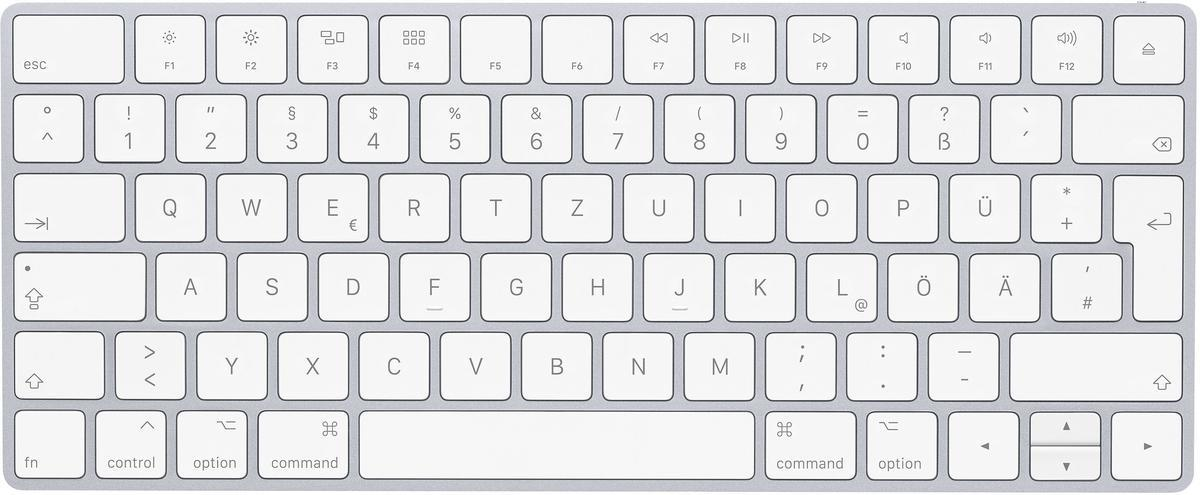0: (825, 90, 899, 164)
1: (93, 90, 165, 162)
2: (174, 92, 246, 164)
3: (256, 90, 328, 162)
4: (336, 90, 409, 163)
5: (417, 90, 491, 164)
6: (498, 90, 573, 164)
7: (581, 93, 656, 167)
8: (662, 93, 737, 167)
9: (745, 90, 820, 164)
a: (153, 248, 227, 321)
accent: (988, 90, 1062, 163)
ae: (967, 249, 1041, 322)
alt-left: (176, 407, 248, 480)
altgr-right: (860, 408, 941, 480)
b: (519, 327, 595, 401)
c: (356, 327, 432, 401)
caret: (11, 90, 84, 162)
comma: (763, 328, 838, 400)
d: (316, 249, 391, 322)
del: (1069, 90, 1184, 164)
e: (295, 169, 370, 242)
enter: (1110, 171, 1185, 323)
f: (396, 248, 472, 321)
g: (478, 248, 553, 322)
h: (558, 247, 635, 322)
hash: (1049, 250, 1123, 322)
i: (702, 169, 777, 242)
j: (641, 248, 715, 322)
k: (723, 249, 796, 323)
keyboard: (5, 6, 1193, 494)
l: (804, 251, 877, 325)
less: (112, 328, 186, 399)
m: (680, 328, 756, 400)
minus: (925, 329, 1001, 400)
n: (598, 328, 674, 402)
o: (784, 173, 859, 246)
oe: (885, 249, 960, 323)
p: (865, 170, 939, 243)
plus: (1028, 170, 1103, 242)
point: (844, 328, 919, 400)
q: (132, 170, 207, 242)
r: (378, 170, 453, 243)
s: (234, 249, 309, 322)
shift-left: (11, 326, 105, 399)
shift-lock: (10, 248, 148, 321)
shift-right: (1005, 328, 1184, 401)
space: (355, 407, 759, 480)
ss: (906, 90, 981, 164)
strg-left: (91, 409, 169, 478)
t: (458, 169, 532, 242)
tab: (11, 169, 126, 242)
u: (622, 172, 696, 246)
ue: (948, 172, 1022, 245)
v: (439, 328, 515, 402)
w: (213, 169, 288, 242)
x: (275, 328, 349, 399)
y: (194, 327, 268, 399)
z: (539, 169, 613, 243)
